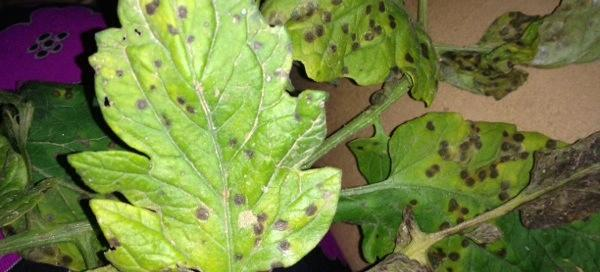Tomato Septoria leaf spot: (66, 2, 344, 271), (351, 109, 599, 272), (436, 8, 592, 116)
